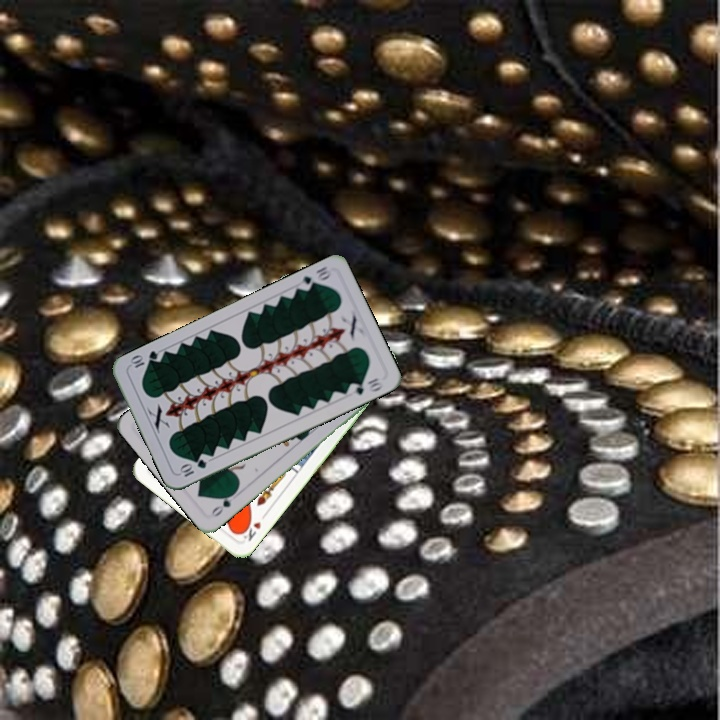G10: (294, 262, 335, 294), (176, 455, 209, 479)
GO: (207, 487, 239, 520)
HK: (237, 509, 269, 544)
